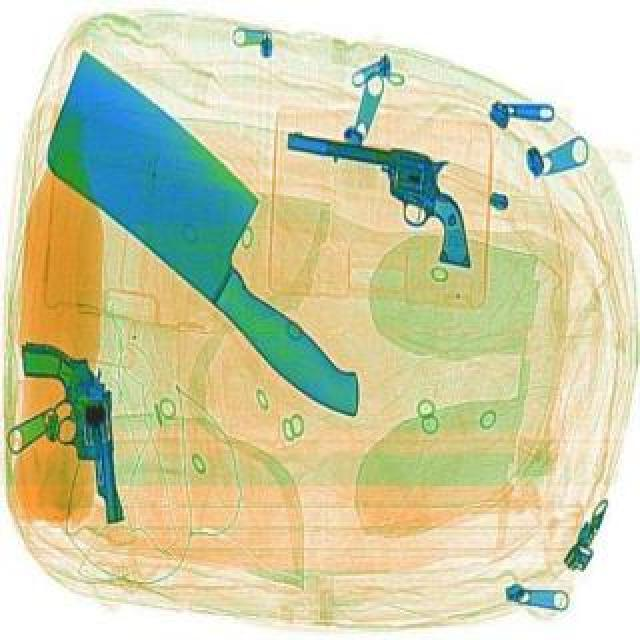gun: (256, 90, 516, 278), (16, 332, 128, 530)
knife: (0, 38, 432, 436)
